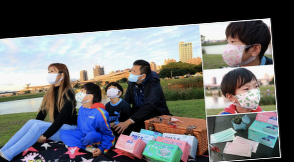with_mask: (237, 81, 262, 111), (220, 38, 245, 67), (73, 88, 87, 105), (46, 68, 59, 84), (127, 66, 139, 83), (105, 86, 119, 99)
